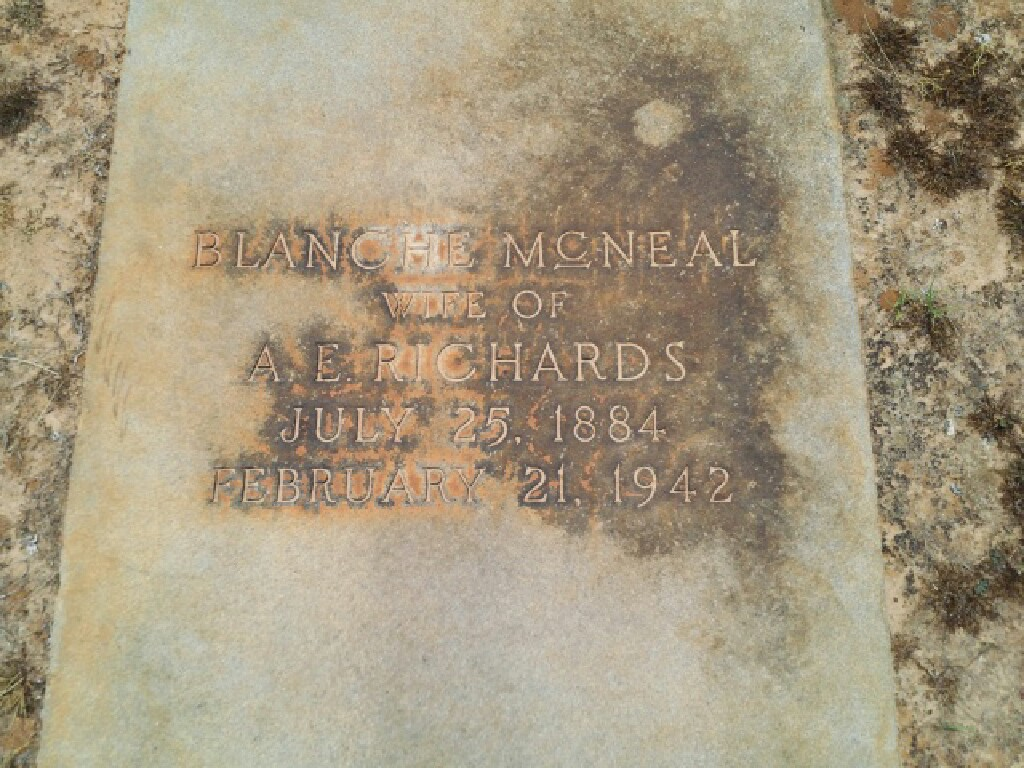flat: (33, 0, 901, 768)
